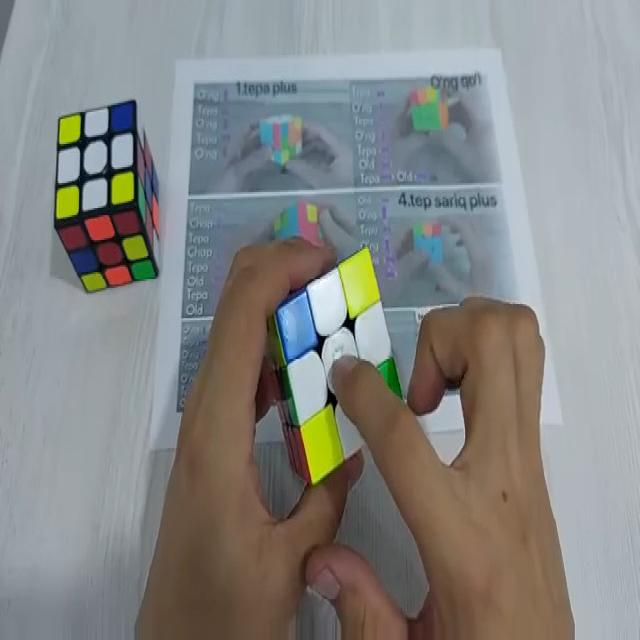Rub: (266, 249, 406, 483), (53, 100, 161, 293)
